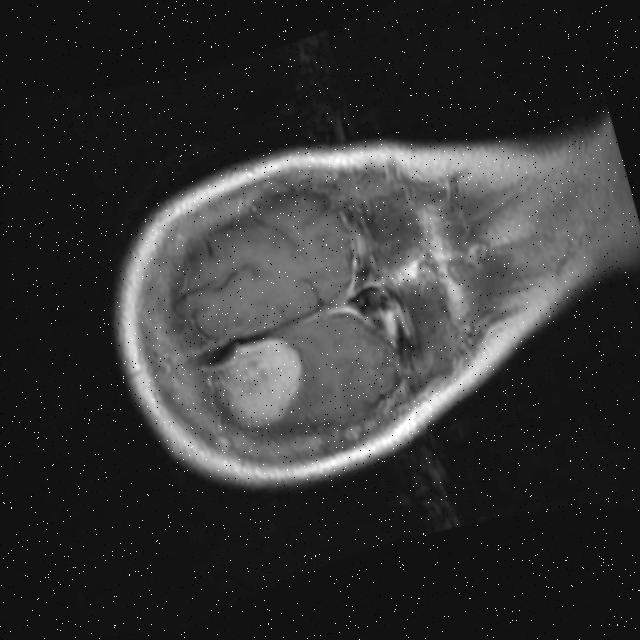Meningioma: (191, 322, 319, 443)
